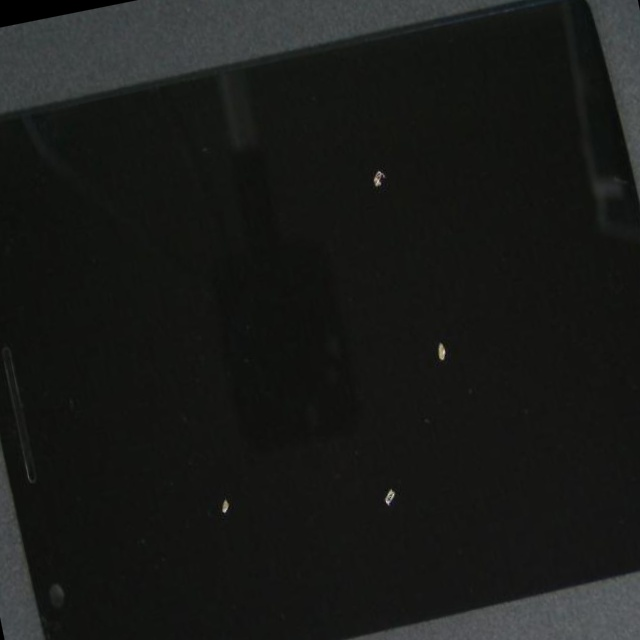stain: (136, 141, 619, 640), (171, 136, 640, 639), (135, 0, 605, 301), (94, 247, 418, 640)
